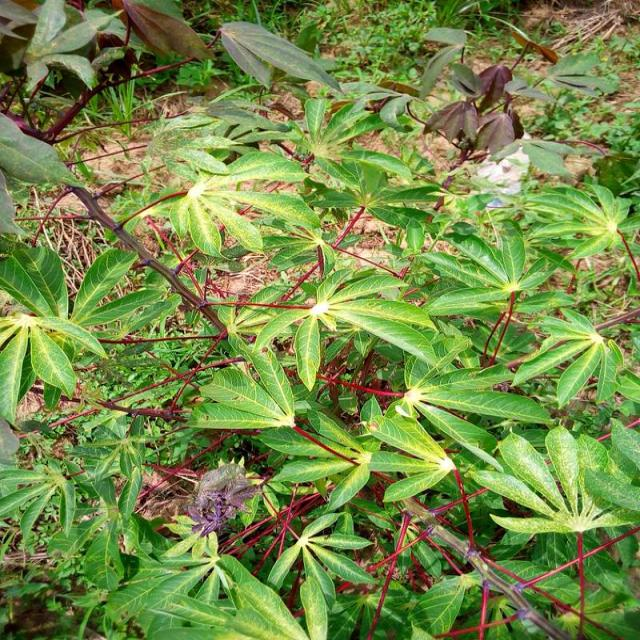cassava leaf: (2, 3, 640, 638), (220, 19, 346, 96)
